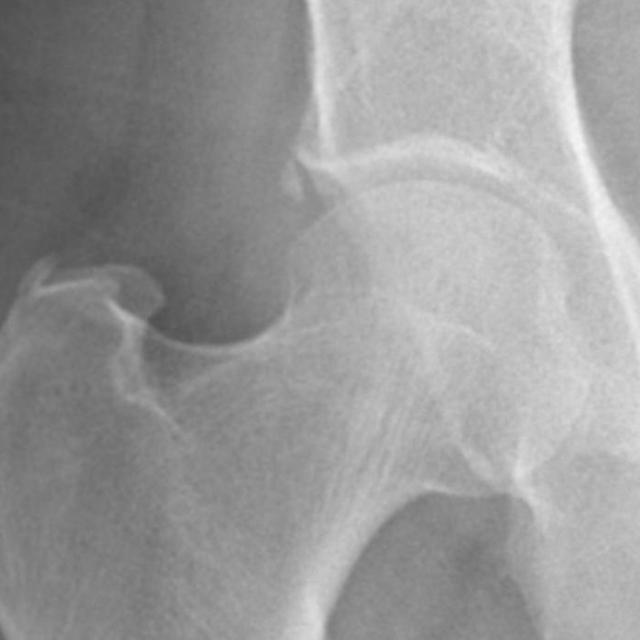Fitted_femural_head: (319, 184, 432, 319)
